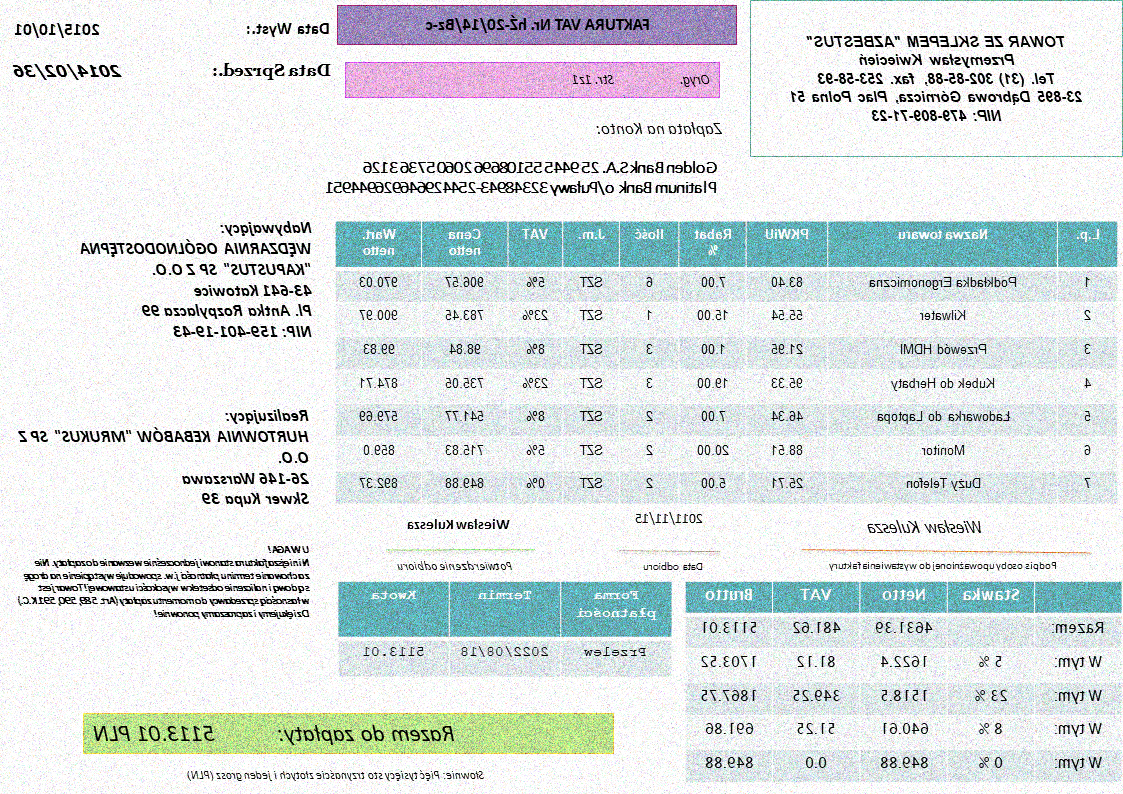Table: (336, 218, 1119, 503), (685, 580, 1122, 783), (337, 580, 674, 678)
TextBox: (16, 405, 311, 508), (75, 219, 314, 342), (786, 33, 1086, 126), (14, 542, 313, 621), (322, 158, 719, 197), (91, 720, 458, 745), (423, 12, 651, 36), (185, 767, 486, 784), (827, 557, 1059, 573), (594, 118, 726, 140), (209, 61, 332, 83), (864, 516, 985, 538), (11, 61, 123, 84), (570, 71, 713, 87), (404, 514, 513, 533), (395, 558, 515, 574), (13, 20, 102, 39), (244, 20, 331, 39), (633, 509, 706, 528), (643, 559, 706, 573)
